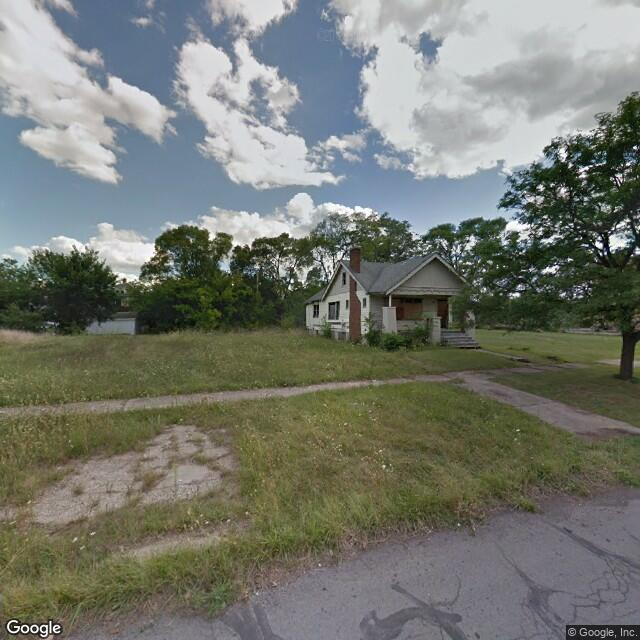litter: (68, 533, 86, 544), (271, 578, 282, 588), (77, 544, 86, 553), (453, 520, 463, 528), (512, 427, 523, 433), (383, 464, 392, 471), (90, 530, 98, 537), (316, 562, 323, 570), (253, 592, 262, 596)
